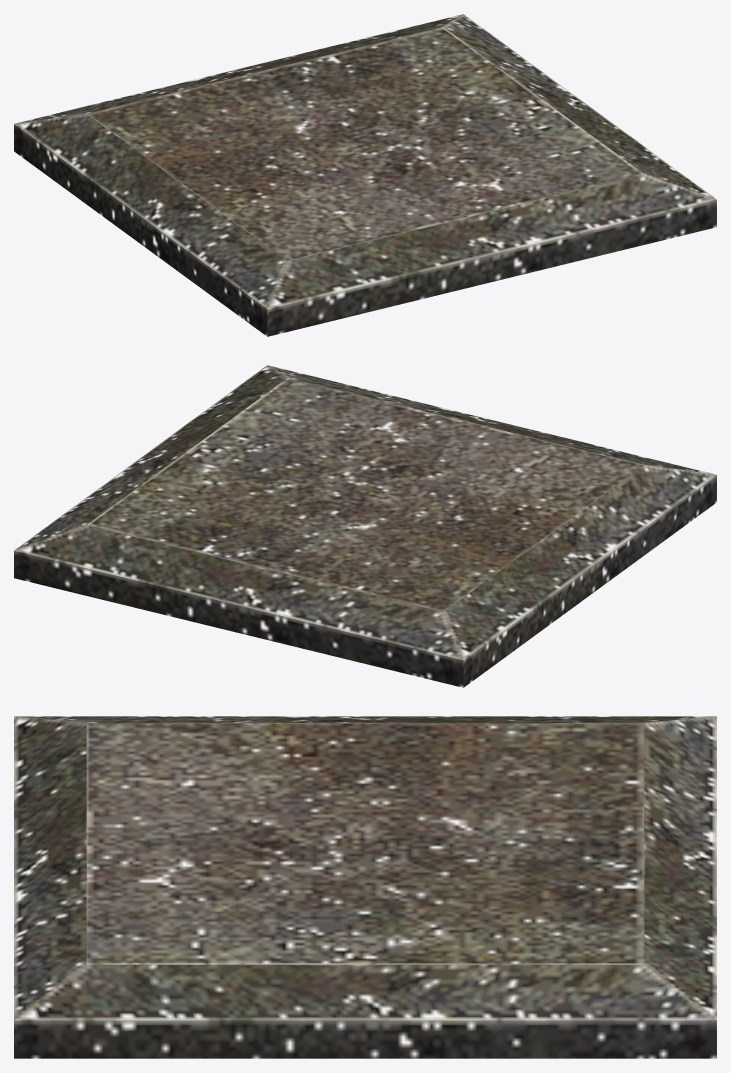
File: 12t_statue_base.glb
3 views of the same model, one above another, from view 1: azimuth 30°, elevation 25°; view 2: azimuth 150°, elevation 25°; view 3: azimuth 270°, elevation 25° (orthographic). The views are drawn at different scales.
Visible parts, largest first — view 1: 2st_table_001; view 2: 2st_table_001; view 3: 2st_table_001.
Boxes of the visible parts, <box> form: 2st_table_001: <box>14,14,716,336</box>; 2st_table_001: <box>14,365,716,687</box>; 2st_table_001: <box>14,716,716,1058</box>.
Size of the model in its own units: 4.93 by 0.4731 by 4.81.
1 material, 1 textured.
